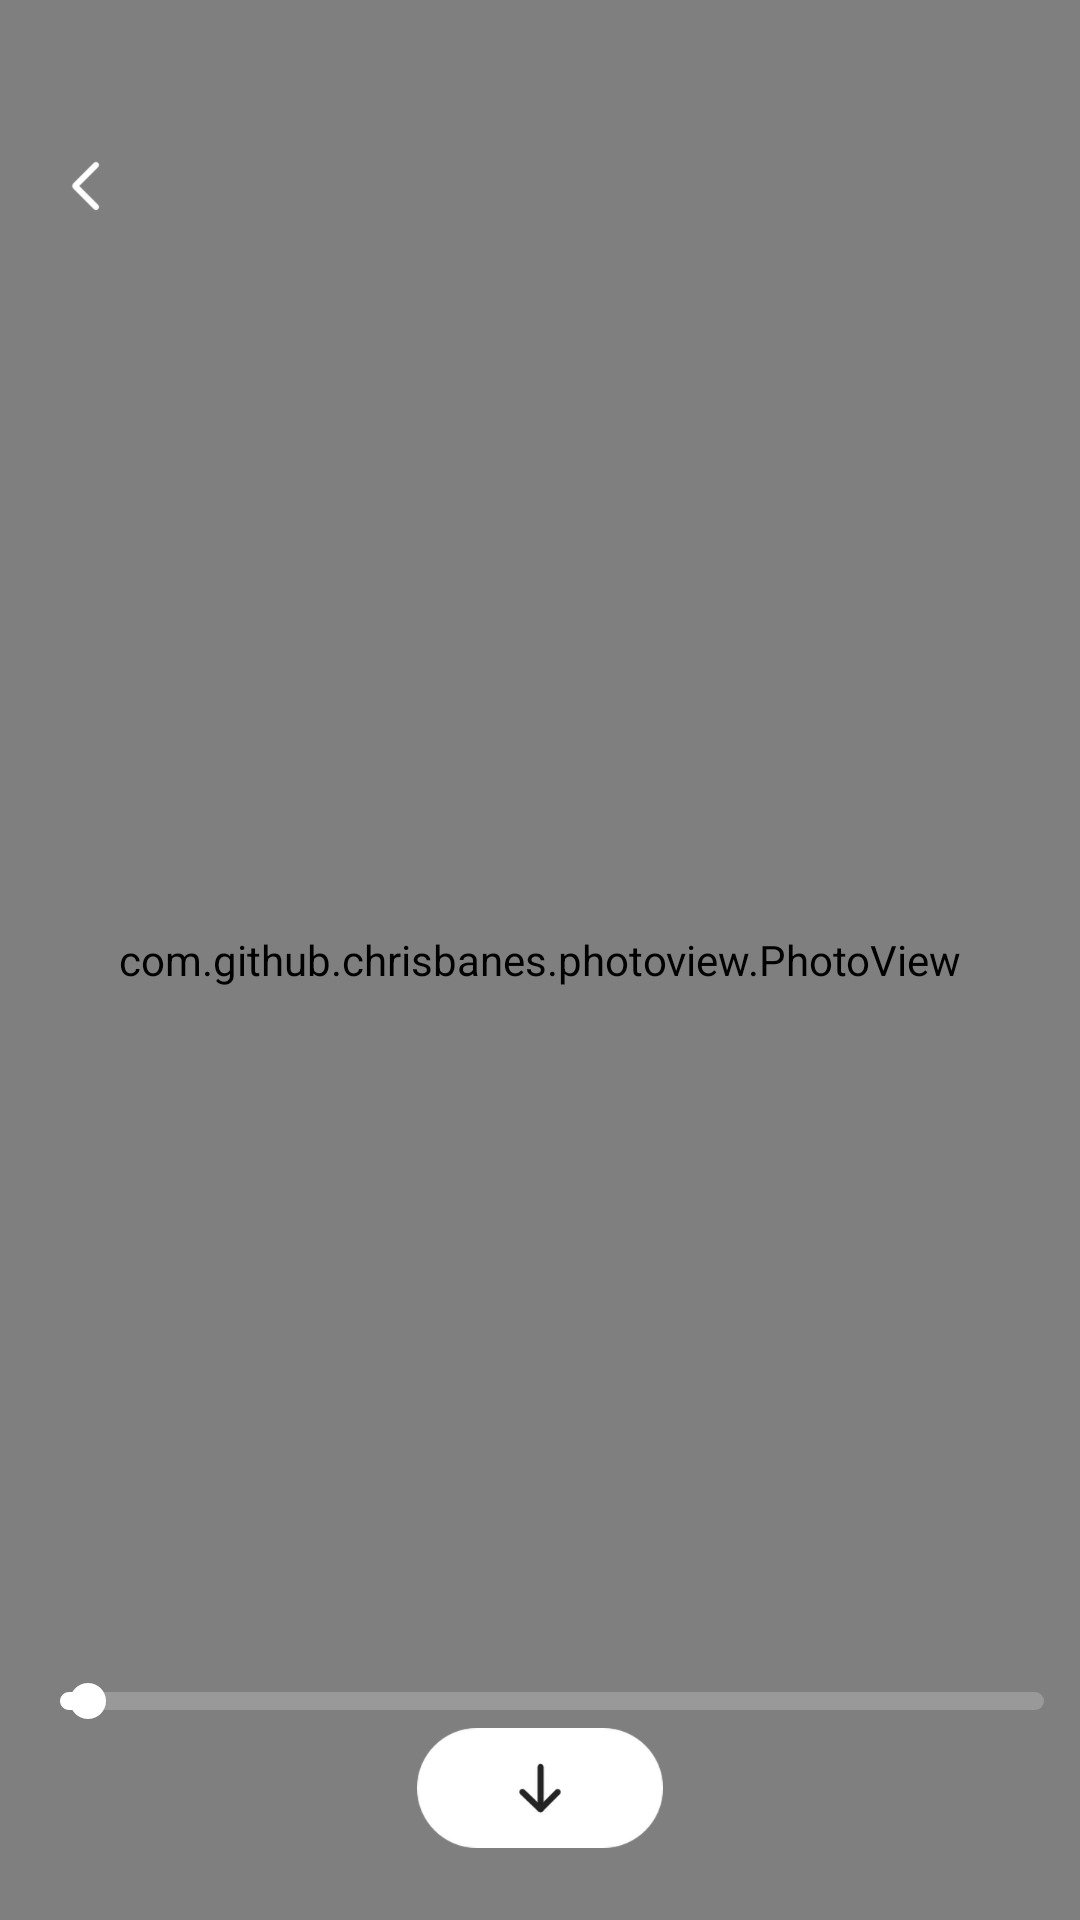

Where to tap for icons on this 1080x1920 app screen, as (x=x, y=y):
back: (x=85, y=186)
